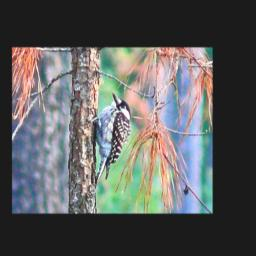Woodpecker: (81, 88, 138, 191)
